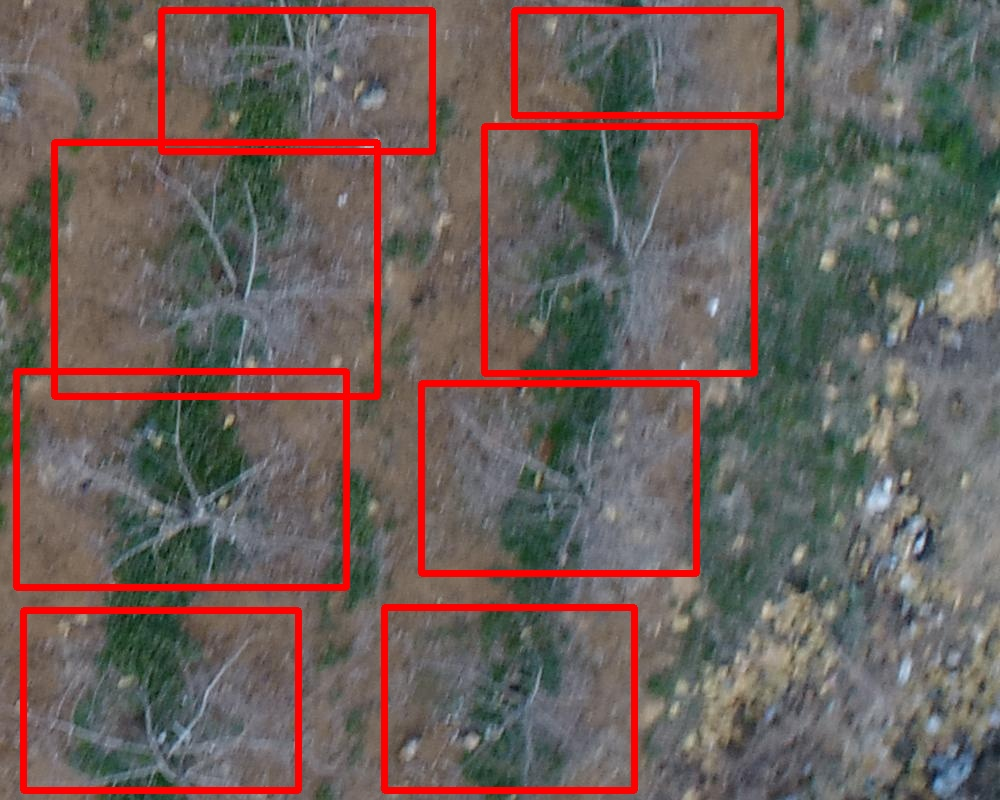apple: (54, 142, 377, 396), (16, 371, 346, 587), (484, 126, 754, 373), (421, 383, 696, 573), (23, 610, 298, 790), (384, 607, 634, 790), (161, 10, 432, 151), (514, 10, 780, 115)
